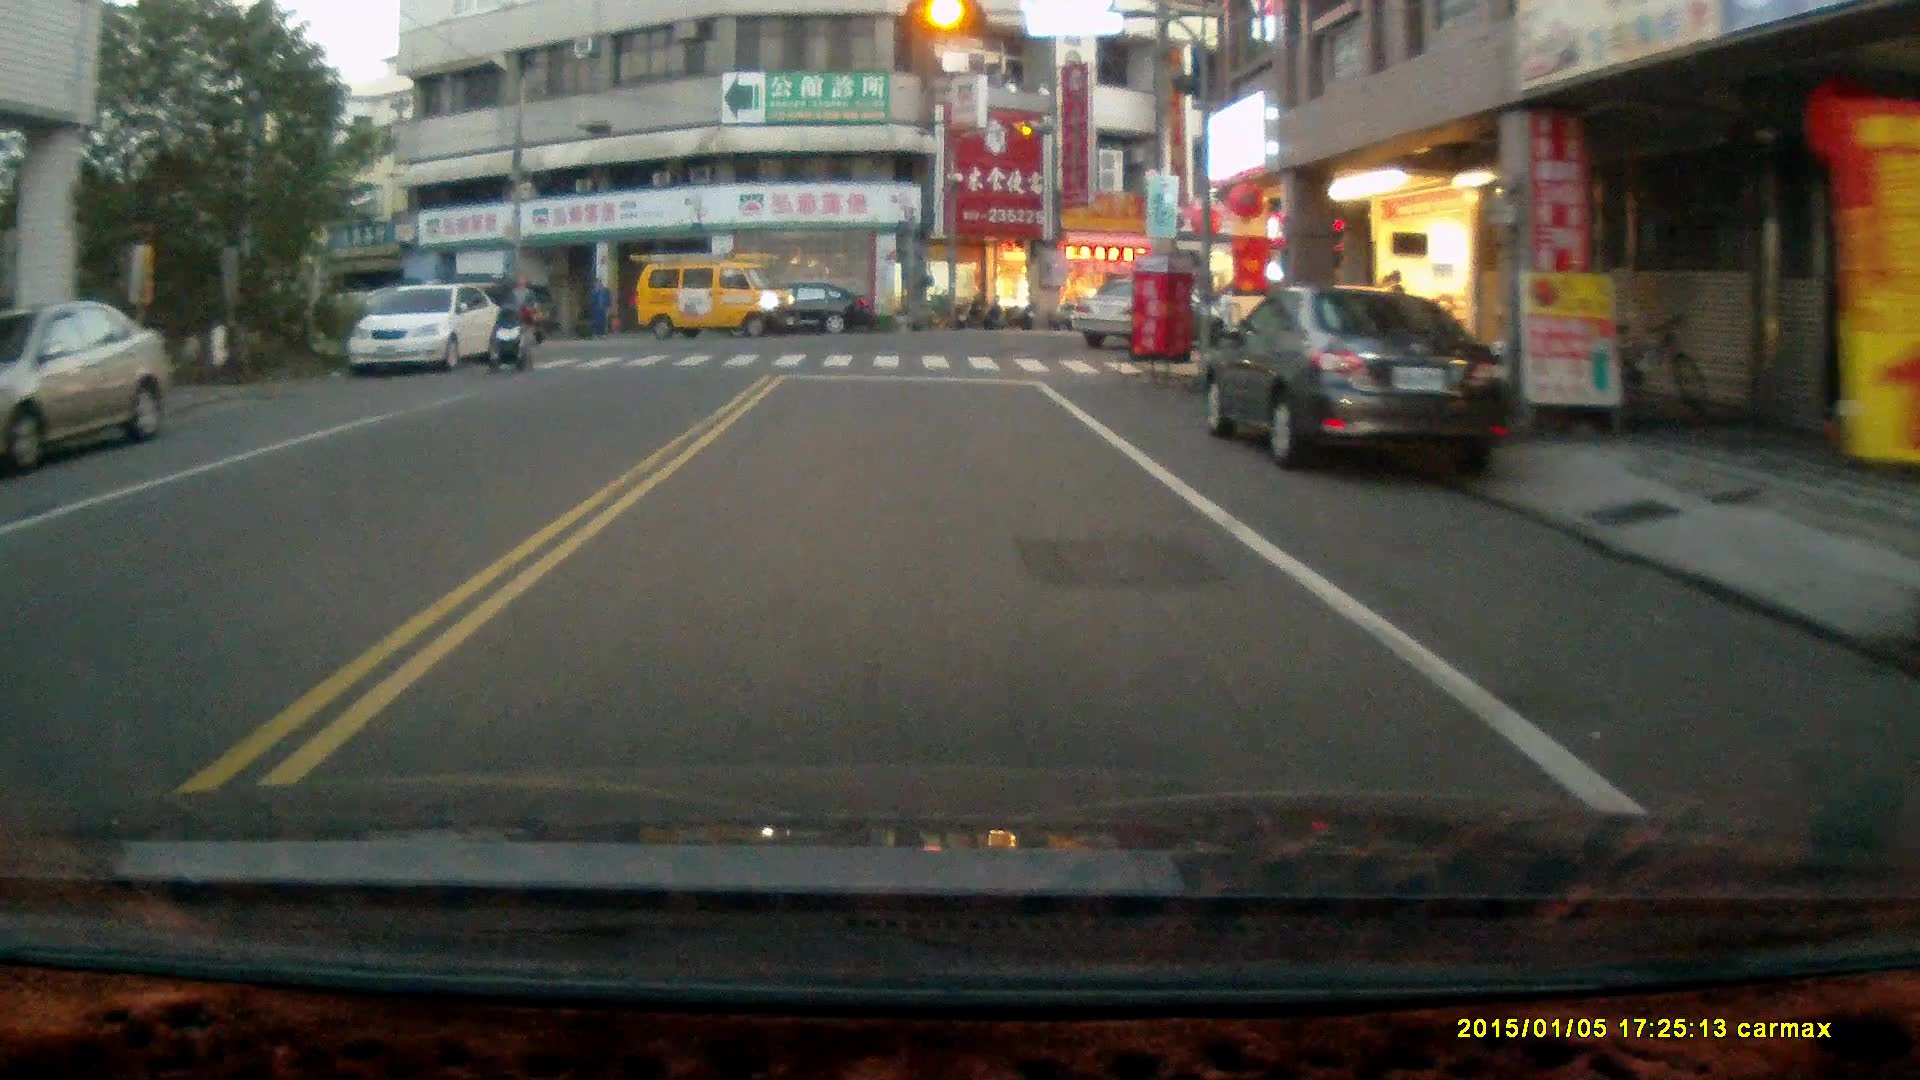pedestrian: (504, 271, 534, 355), (586, 275, 609, 336)
rider: (484, 305, 535, 373)
vehicle: (1202, 286, 1517, 482), (1, 300, 175, 480), (350, 284, 505, 380), (634, 253, 802, 340), (1065, 276, 1209, 351), (736, 282, 872, 338)
